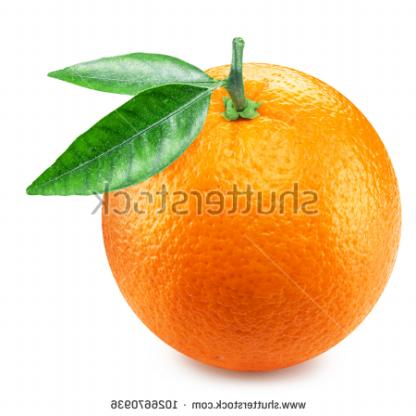orange: (79, 65, 413, 369)
